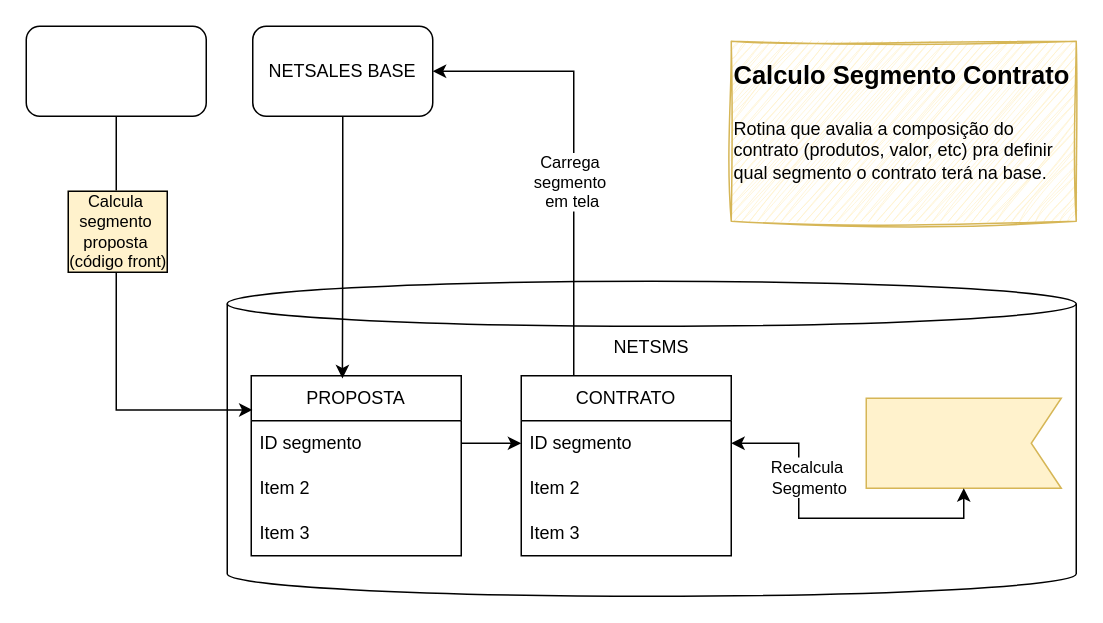
Image size: 1103x623. Some labels were removed from this diagram. Each missing label, with the centre of its shape:
NETSALES PROSPECT: [115,70]
Trigger (movimentação contrato): [963,442]
